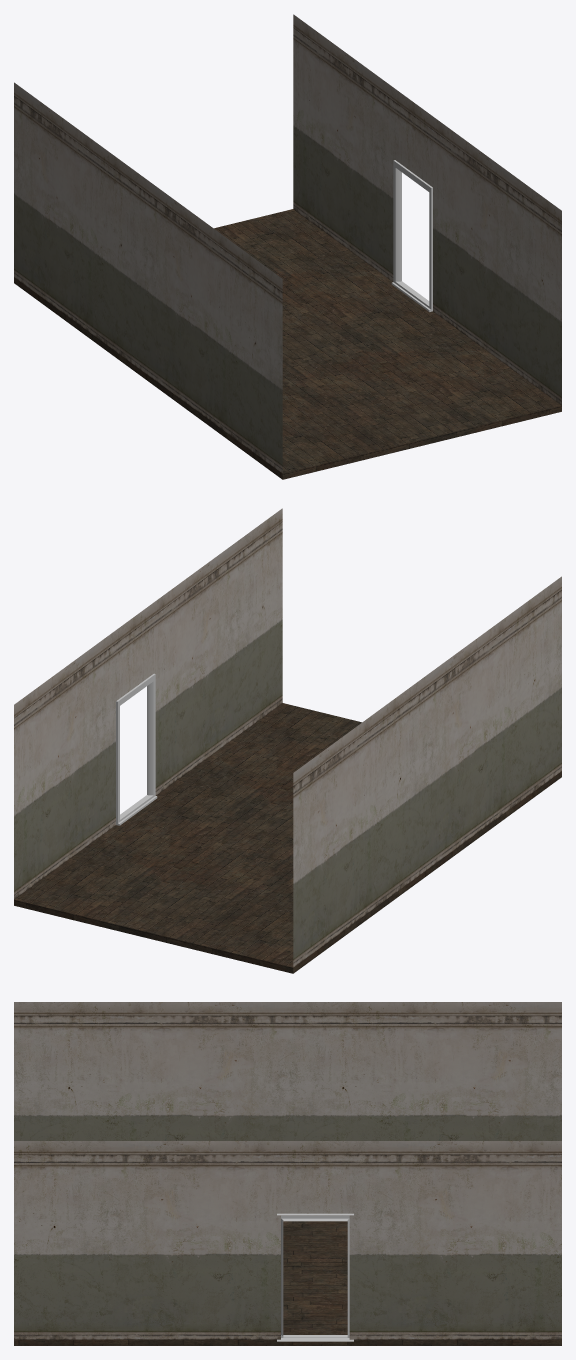
The model's file is hallway_finished_10m_door_left.fbx.
3 views of the same model, one above another, from view 1: azimuth 30°, elevation 25°; view 2: azimuth 150°, elevation 25°; view 3: azimuth 270°, elevation 25° (orthographic).
Visible parts, largest first — view 1: hallway_finished_10m_door_left; view 2: hallway_finished_10m_door_left; view 3: hallway_finished_10m_door_left.
Boxes of the visible parts, bbox=[...] form: hallway_finished_10m_door_left: bbox=[14, 14, 561, 479]; hallway_finished_10m_door_left: bbox=[14, 508, 561, 973]; hallway_finished_10m_door_left: bbox=[14, 1002, 561, 1345].
Size of the model in its own units: 608 by 412 by 1000.
